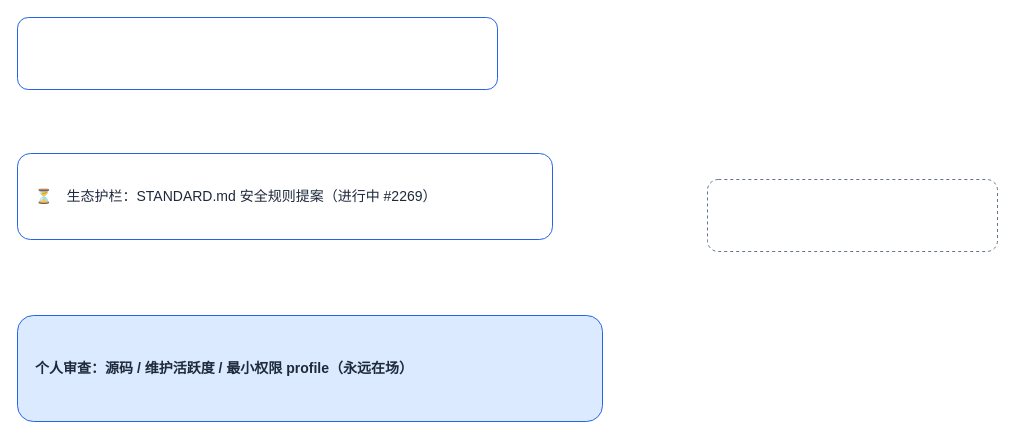
Some shapes in this 1015 by 439 pixel diagram are drawn without their labels. The shapes that lost their labels are listed below. From the top down, each one's centre as x and y in pixels, then its label:
At (257,53): "✓ 平台护栏：fail-closed 沙箱 + rc 快速修补（已有）".
At (852,215): "上层缺位时，下层就得厚 （卡片越靠下越宽，即这层要自己顶上）".
